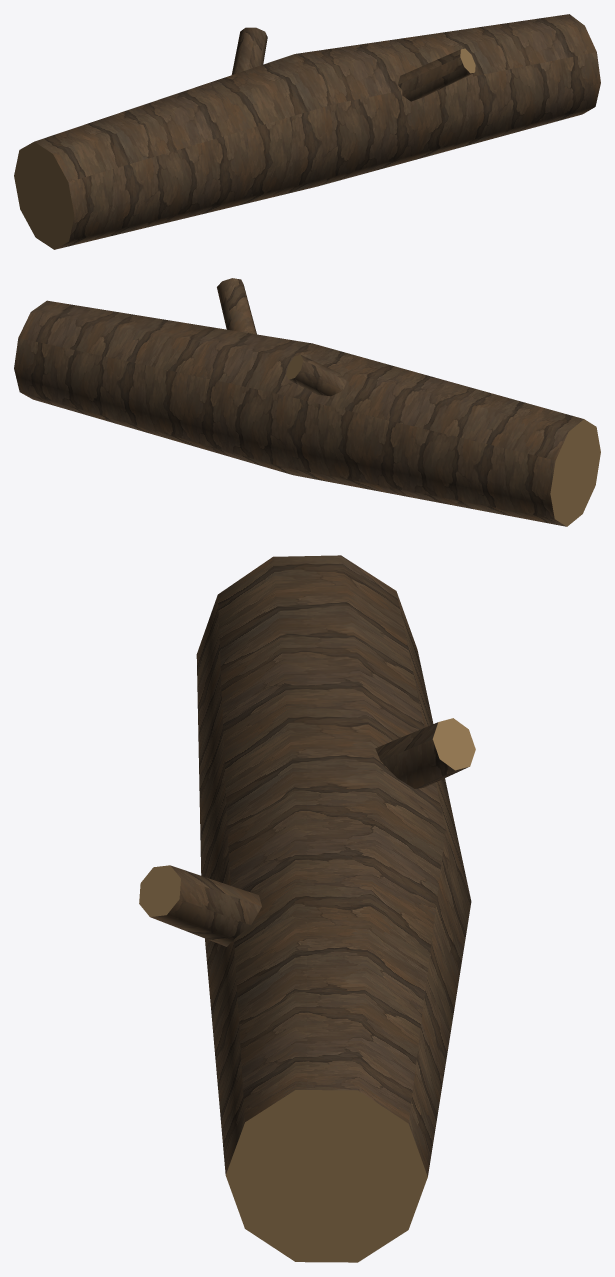
The picture shows the model from 3 angles, top to bottom: view 1: azimuth 30°, elevation 25°; view 2: azimuth 150°, elevation 25°; view 3: azimuth 270°, elevation 25°; orthographic projection. The views are drawn at different scales.
Parts seen in each view (by area): view 1: Fallen crooked trunk; view 2: Fallen crooked trunk; view 3: Fallen crooked trunk.
Boxes of the visible parts, x1,y1,x2,y2 form: Fallen crooked trunk: (14,14,600,249); Fallen crooked trunk: (14,278,600,526); Fallen crooked trunk: (139,555,475,1262).
Bounding box in the file's own units: 5.03 × 1.23 × 1.37.
Materials: 2 (1 with a texture image).
